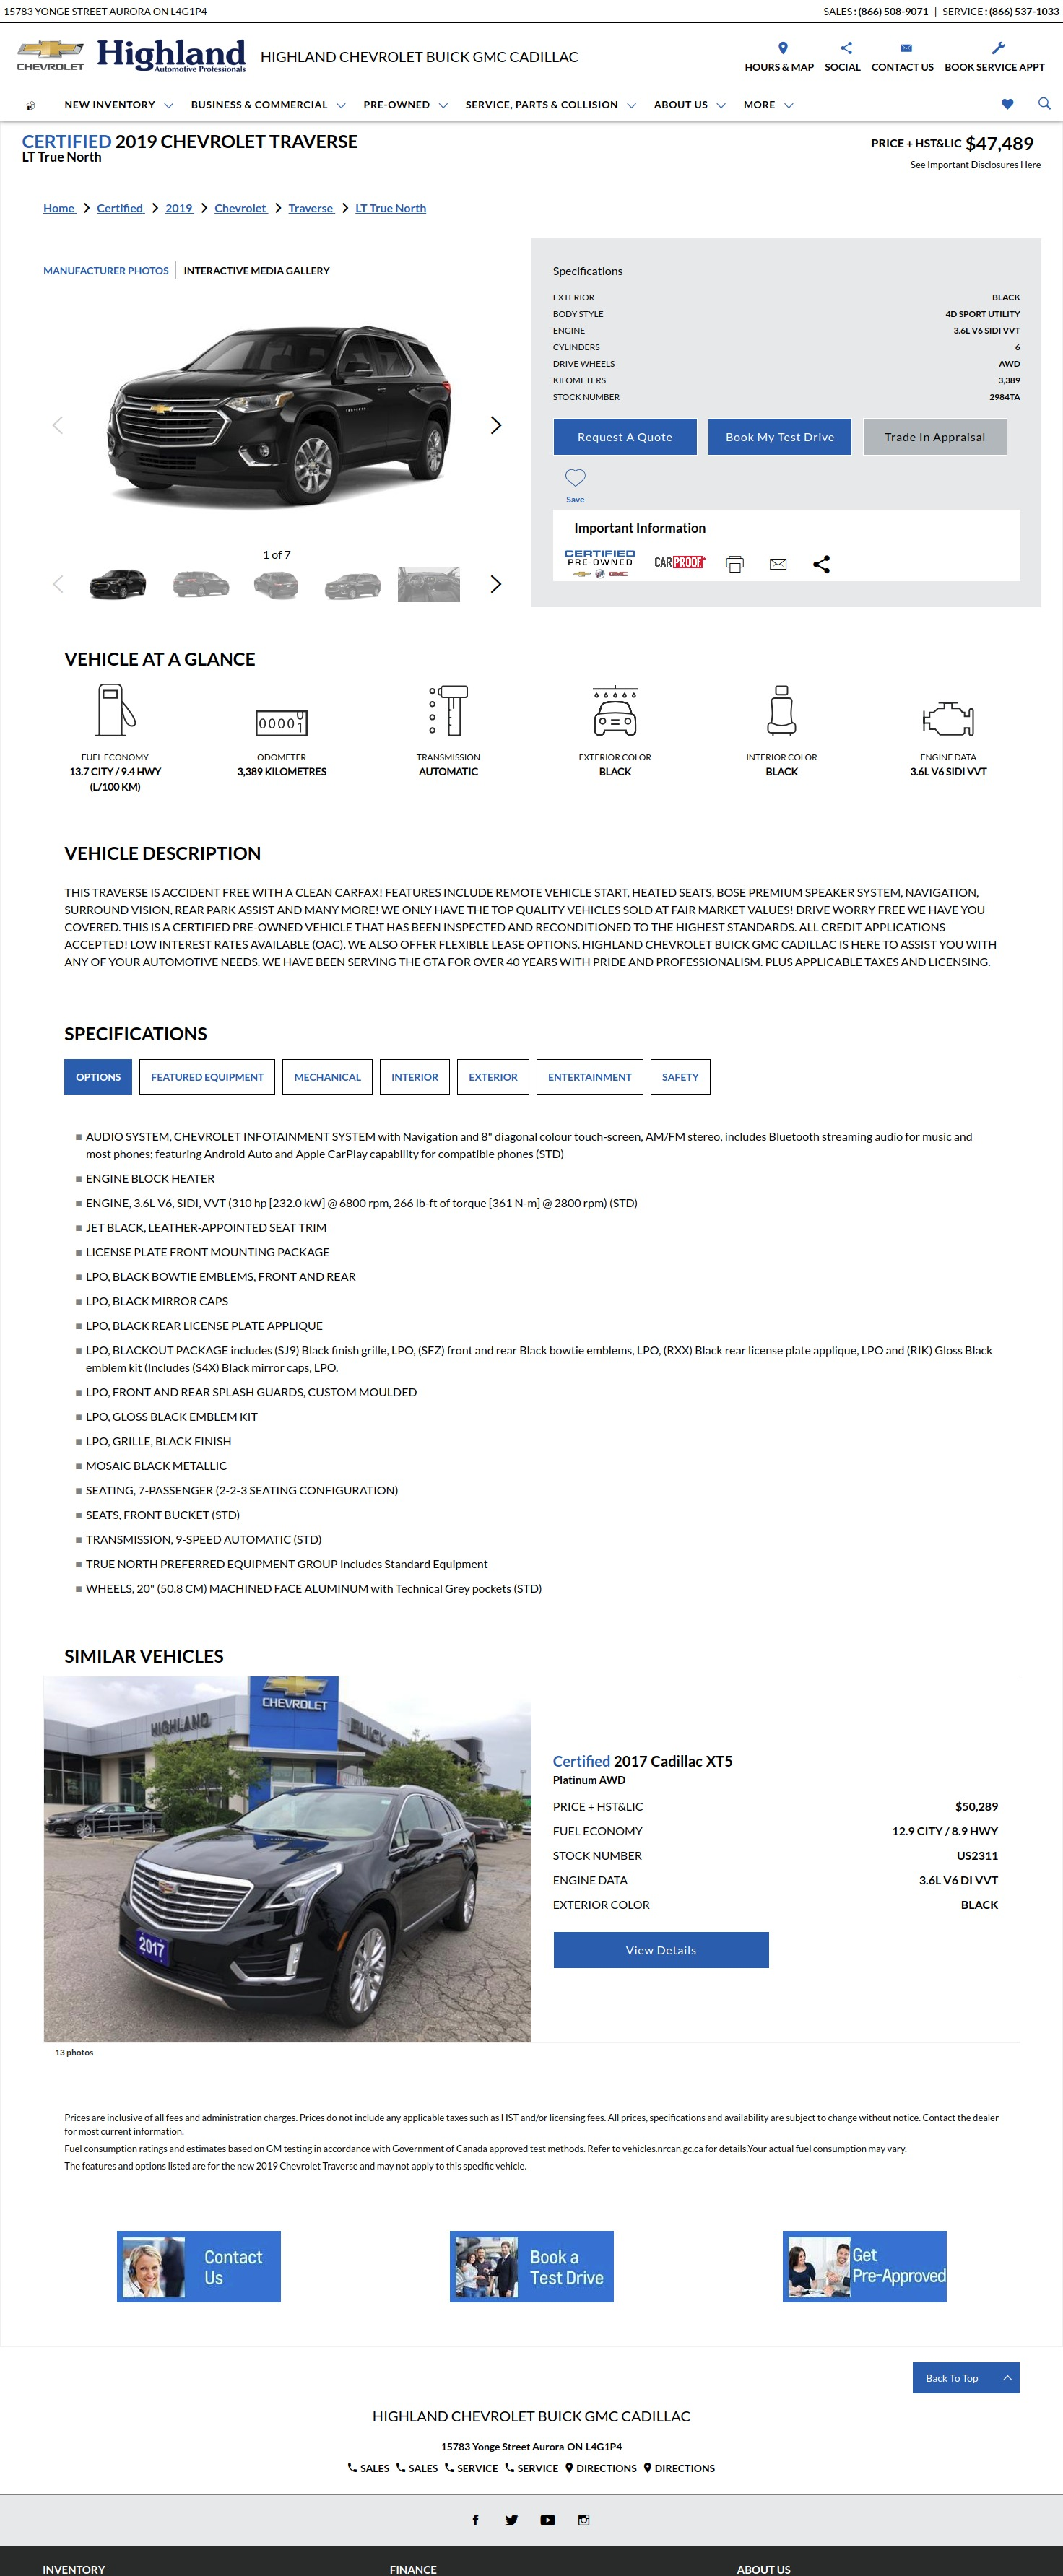car: (491, 575, 501, 593)
